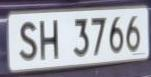3: (70, 13, 92, 63)
6: (107, 13, 126, 58), (125, 12, 142, 57)
7: (88, 14, 108, 60)
H: (39, 16, 63, 67)
S: (17, 16, 40, 68)
